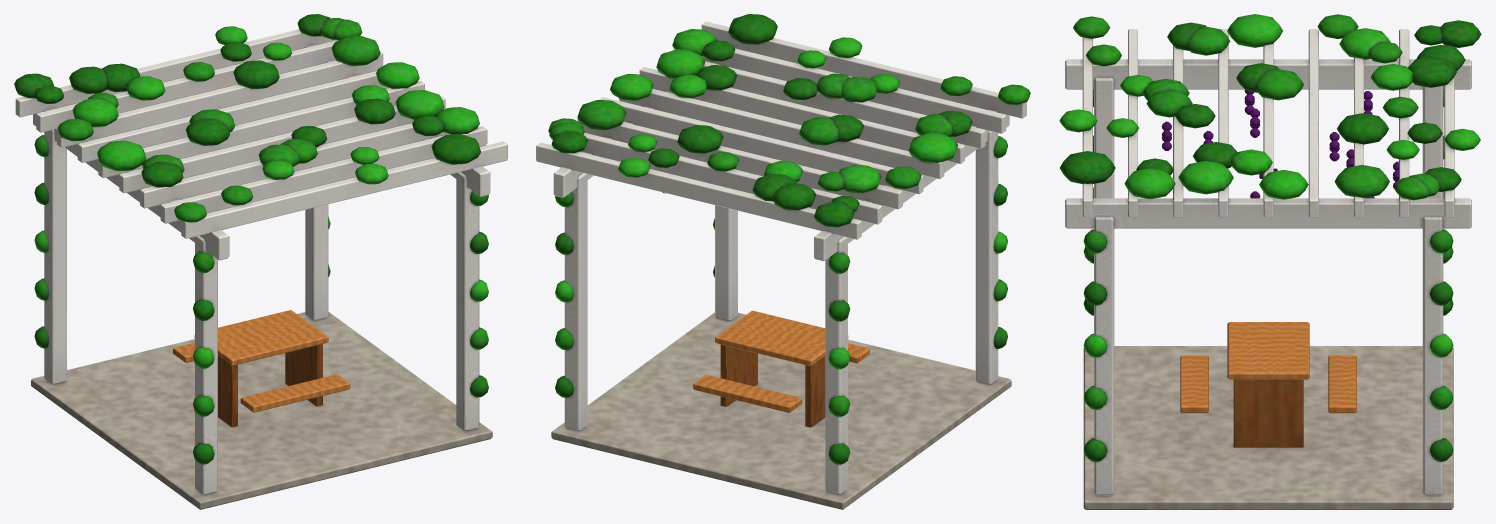
The model's file is pergola.glb.
3 renders of one model, left to right at view 1: azimuth 30°, elevation 25°; view 2: azimuth 150°, elevation 25°; view 3: azimuth 270°, elevation 25°, orthographic. The views are drawn at different scales.
Parts seen in each view (by area): view 1: pergola; view 2: pergola; view 3: pergola.
Part boxes in pixels (x1,y1,x2,y2): pergola: [14, 14, 507, 509]; pergola: [536, 14, 1030, 509]; pergola: [1059, 14, 1481, 509].
Bounding box in the file's own units: 2.06 × 1.81 × 2.05.
Materials: 1 (1 with a texture image).
